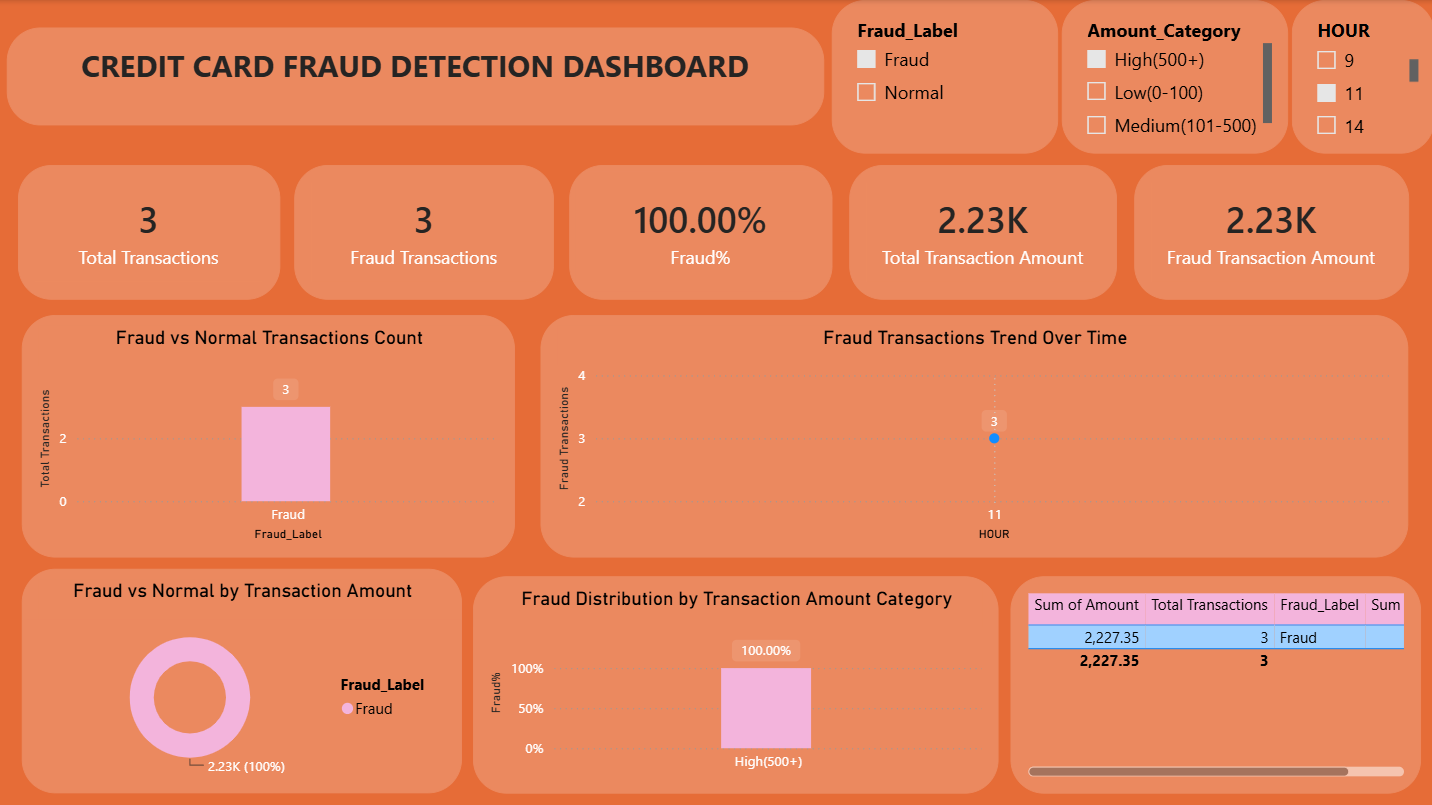

The dashboard page shown, as its layout file describes it:
{"tool":"powerbi","page":{"name":"Page 1","canvas":[1280,720],"ordinal":0},"visuals":[{"type":"cardVisual","fields":{"Data":["creditcard.Total Transactions"]},"box":[17.5,147.4,233.5,119.9],"z":0},{"type":"cardVisual","fields":{"Data":["creditcard.Fraud Transactions"]},"box":[263.5,147.4,231,119.9],"z":1000},{"type":"cardVisual","fields":{"Data":["creditcard.Fraud%"]},"box":[508.3,147.4,234.8,119.9],"z":2000},{"type":"cardVisual","fields":{"Data":["creditcard.Total Transaction Amount"]},"box":[758,147.4,238.5,119.9],"z":3000},{"type":"cardVisual","fields":{"Data":["creditcard.Fraud Transaction Amount"]},"box":[1011.5,147.4,244.8,119.9],"z":4000},{"type":"clusteredColumnChart","title":"Fraud vs Normal Transactions Count","fields":{"Category":["creditcard.Fraud_Label"],"Y":["creditcard.Total Transactions"]},"box":[21.2,281,439.6,216],"z":5000},{"type":"donutChart","title":"Fraud vs Normal by Transaction Amount","fields":{"Category":["creditcard.Fraud_Label"],"Y":["Sum(creditcard.Amount)"]},"box":[21.2,507,392.1,199.8],"z":6000},{"type":"lineChart","title":"Fraud Transactions Trend Over Time","fields":{"Category":["creditcard.HOUR"],"Y":["creditcard.Fraud Transactions"]},"box":[483.3,281,773,216],"z":7000},{"type":"columnChart","title":"Fraud Distribution by Transaction Amount Category","fields":{"Category":["creditcard.Amount_Category"],"Y":["creditcard.Fraud%"]},"box":[423.3,513.2,468.3,193.6],"z":8000},{"type":"tableEx","fields":{"Values":["Sum(creditcard.Amount)","creditcard.Total Transactions","creditcard.Fraud_Label","Sum(creditcard.HOUR)"]},"box":[901.6,513.2,365.9,193.6],"z":9000},{"type":"textbox","box":[7.5,25,727.6,87.1],"z":10000},{"type":"slicer","fields":{"Values":["creditcard.Fraud_Label"]},"box":[743,0,201.7,136.5],"z":11000},{"type":"slicer","fields":{"Values":["creditcard.Amount_Category"]},"box":[947.7,0,201.7,136.5],"z":12000},{"type":"slicer","fields":{"Values":["creditcard.HOUR"]},"box":[1152.4,0,127.4,136.5],"z":13000}]}

Visuals, with their boxes in screenshot pixels (x1, y1, x2, y2), scaled from the page's 1280x720 canvas onto the 1432x805 screenshot:
cardVisual - creditcard.Total Transactions: select_region(20, 165, 281, 299)
cardVisual - creditcard.Fraud Transactions: select_region(295, 165, 553, 299)
cardVisual - creditcard.Fraud%: select_region(569, 165, 831, 299)
cardVisual - creditcard.Total Transaction Amount: select_region(848, 165, 1115, 299)
cardVisual - creditcard.Fraud Transaction Amount: select_region(1132, 165, 1405, 299)
"Fraud vs Normal Transactions Count" clusteredColumnChart: select_region(24, 314, 516, 556)
"Fraud vs Normal by Transaction Amount" donutChart: select_region(24, 567, 462, 790)
"Fraud Transactions Trend Over Time" lineChart: select_region(541, 314, 1405, 556)
"Fraud Distribution by Transaction Amount Category" columnChart: select_region(474, 574, 997, 790)
tableEx - Sum(creditcard.Amount) x creditcard.Total Transactions: select_region(1009, 574, 1418, 790)
textbox: select_region(8, 28, 822, 125)
slicer - creditcard.Fraud_Label: select_region(831, 0, 1057, 153)
slicer - creditcard.Amount_Category: select_region(1060, 0, 1286, 153)
slicer - creditcard.HOUR: select_region(1289, 0, 1431, 153)
